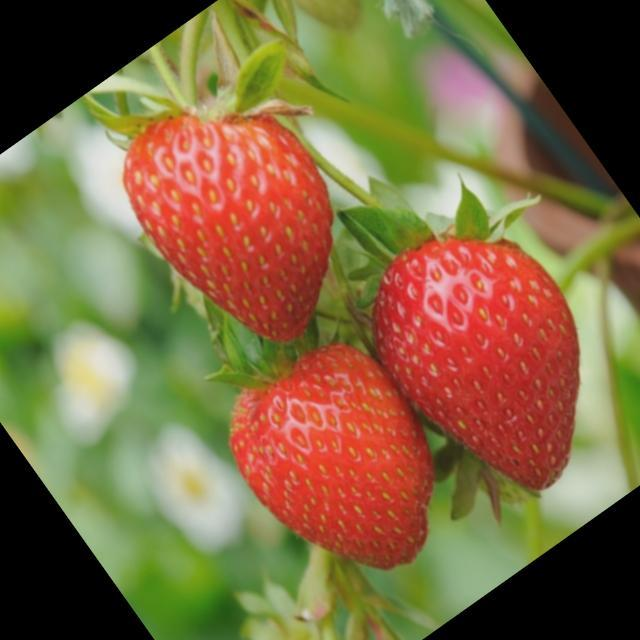strawberry: (374, 238, 579, 490), (124, 115, 332, 341), (230, 344, 434, 568)
